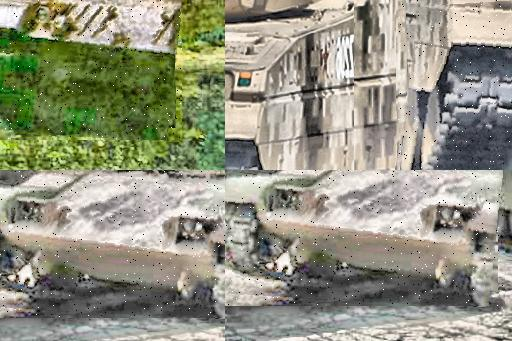tanks: (226, 171, 503, 307), (226, 1, 425, 171), (1, 171, 226, 319), (1, 1, 183, 140), (400, 1, 512, 171), (433, 171, 512, 239)
